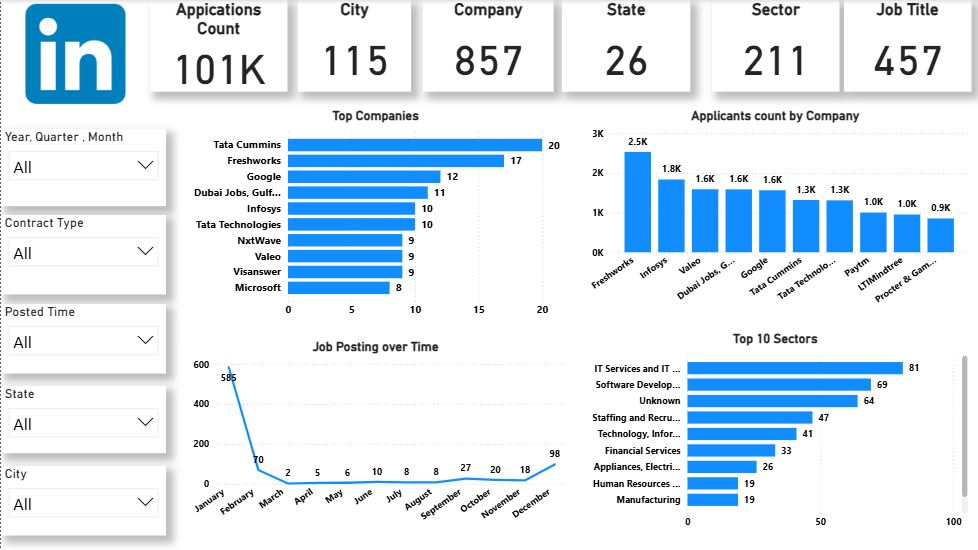

The page's visual inventory and layout, read from the dashboard file:
{"tool":"powerbi","page":{"name":"Page 1","canvas":[1280,720],"ordinal":0},"visuals":[{"type":"card","title":"Appications Count","fields":{"Values":["Sum(Cleaned_LinkedIn_Jobs_Data_India.applicationsCount)"]},"box":[194.4,0,180,119.5],"z":0},{"type":"card","title":"City","fields":{"Values":["Count(Cleaned_LinkedIn_Jobs_Data_India.city)"]},"box":[388.8,0,148.3,119.5],"z":1000},{"type":"card","title":"Company","fields":{"Values":["CountNonNull(Cleaned_LinkedIn_Jobs_Data_India.companyName)"]},"box":[553,0,171.4,119.5],"z":2000},{"type":"card","title":"State","fields":{"Values":["Count(Cleaned_LinkedIn_Jobs_Data_India.state)"]},"box":[734.4,0,168.5,119.5],"z":3000},{"type":"card","title":"Sector","fields":{"Values":["Count(Cleaned_LinkedIn_Jobs_Data_India.sector)"]},"box":[930.2,0,167,119.5],"z":4000},{"type":"card","title":"Job Title","fields":{"Values":["Count(Cleaned_LinkedIn_Jobs_Data_India.title)"]},"box":[1103,0,167,119.5],"z":5000},{"type":"slicer","title":"Year, Quarter , Month","fields":{"Values":["Cleaned_LinkedIn_Jobs_Data_India.publishedAt.Variation.Date Hierarchy.Year","Cleaned_LinkedIn_Jobs_Data_India.publishedAt.Variation.Date Hierarchy.Quarter","Cleaned_LinkedIn_Jobs_Data_India.publishedAt.Variation.Date Hierarchy.Month"]},"box":[0,168.5,216,100.8],"z":5001},{"type":"slicer","title":"Contract Type","fields":{"Values":["Cleaned_LinkedIn_Jobs_Data_India.contractType"]},"box":[0,280.8,216,103.7],"z":5002},{"type":"slicer","title":"Posted Time","fields":{"Values":["Cleaned_LinkedIn_Jobs_Data_India.postedTime"]},"box":[0,397.4,216,90.7],"z":5003},{"type":"slicer","title":"State","fields":{"Values":["Cleaned_LinkedIn_Jobs_Data_India.state"]},"box":[0,505.4,216,87.8],"z":5004},{"type":"slicer","title":"City","fields":{"Values":["Cleaned_LinkedIn_Jobs_Data_India.city"]},"box":[0,610.6,216,90.7],"z":5005},{"type":"barChart","title":"Top Companies","fields":{"Category":["Cleaned_LinkedIn_Jobs_Data_India.companyName"],"Y":["CountNonNull(Cleaned_LinkedIn_Jobs_Data_India.postedTime)"]},"box":[236.2,141.1,509.8,282.2],"z":5006},{"type":"barChart","title":"Top 10 Sectors","fields":{"Category":["Cleaned_LinkedIn_Jobs_Data_India.sector"],"Y":["CountNonNull(Cleaned_LinkedIn_Jobs_Data_India.postedTime)"]},"box":[756,433.4,514.1,267.8],"z":5007},{"type":"lineChart","title":"Job Posting over Time","fields":{"Y":["CountNonNull(Cleaned_LinkedIn_Jobs_Data_India.postedTime)"],"Category":["Cleaned_LinkedIn_Jobs_Data_India.publishedAt.Variation.Date Hierarchy.Month"]},"box":[236.2,443.5,509.8,257.8],"z":5008},{"type":"columnChart","title":"Applicants count by Company","fields":{"Y":["Sum(Cleaned_LinkedIn_Jobs_Data_India.applicationsCount)"],"Category":["Cleaned_LinkedIn_Jobs_Data_India.companyName"]},"box":[756,141.1,514.1,267.8],"z":5009},{"type":"image","box":[0,0,194.4,141.1],"z":5010}]}

Visuals, with their boxes in screenshot pixels (x1, y1, x2, y2), scaled from the page's 1280x720 canvas onto the 978x550 screenshot:
"Appications Count" card: [left=149, top=0, right=286, bottom=91]
"City" card: [left=297, top=0, right=410, bottom=91]
"Company" card: [left=423, top=0, right=553, bottom=91]
"State" card: [left=561, top=0, right=690, bottom=91]
"Sector" card: [left=711, top=0, right=838, bottom=91]
"Job Title" card: [left=843, top=0, right=970, bottom=91]
"Year, Quarter , Month" slicer: [left=0, top=129, right=165, bottom=206]
"Contract Type" slicer: [left=0, top=214, right=165, bottom=294]
"Posted Time" slicer: [left=0, top=304, right=165, bottom=373]
"State" slicer: [left=0, top=386, right=165, bottom=453]
"City" slicer: [left=0, top=466, right=165, bottom=536]
"Top Companies" barChart: [left=180, top=108, right=570, bottom=323]
"Top 10 Sectors" barChart: [left=578, top=331, right=970, bottom=536]
"Job Posting over Time" lineChart: [left=180, top=339, right=570, bottom=536]
"Applicants count by Company" columnChart: [left=578, top=108, right=970, bottom=312]
image: [left=0, top=0, right=149, bottom=108]
